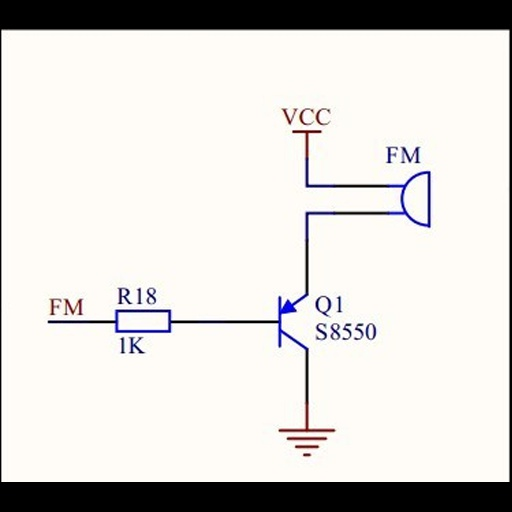firstresistance: (107, 306, 180, 335)
gnd: (270, 425, 345, 457)
pnp: (259, 281, 314, 359)
